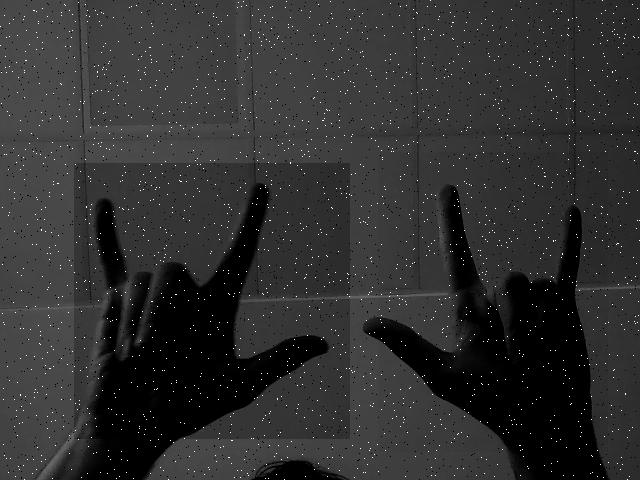I_Love_You: (74, 163, 350, 439), (378, 152, 608, 452)
